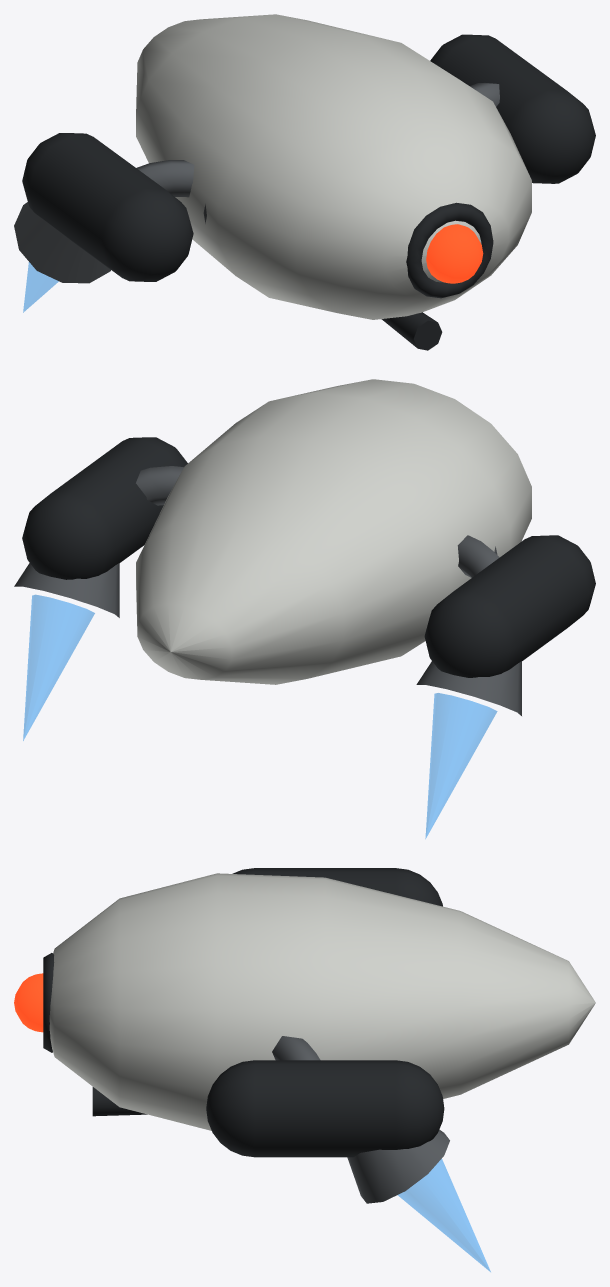
Rendered from buzzer.glb.
3 renders of one model, top to bottom at view 1: azimuth 30°, elevation 25°; view 2: azimuth 150°, elevation 25°; view 3: azimuth 270°, elevation 25°, orthographic. The views are drawn at different scales.
Parts seen in each view (by area): view 1: Buzzer; view 2: Buzzer; view 3: Buzzer.
Boxes of the visible parts, x1,y1,x2,y2 form: Buzzer: [14, 14, 595, 350]; Buzzer: [14, 379, 595, 838]; Buzzer: [14, 868, 595, 1271].
Bounding box in the file's own units: 1.04 × 0.5778 × 1.08.
